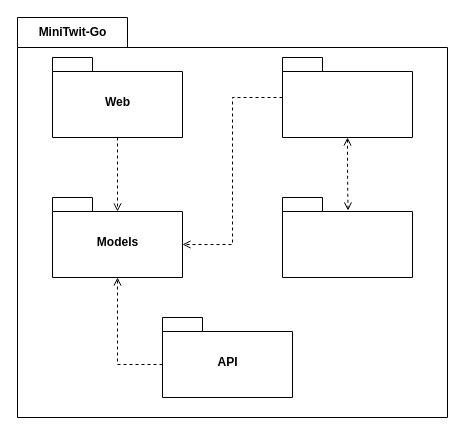
Some shapes in this 465 by 435 pixel diagram are drawn without their labels. Each missing label, with the centre of its shape:
"Controller" belongs at pixel 347 97.
"Database" belongs at pixel 347 237.
